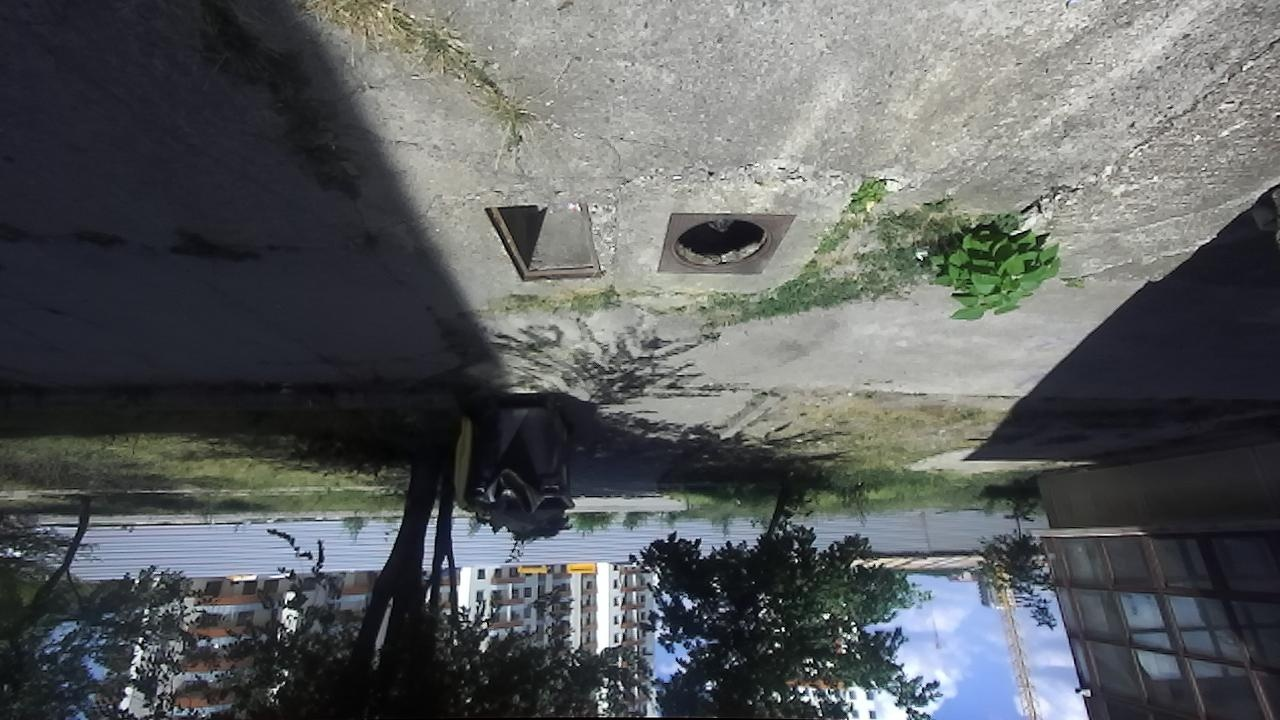drain: (483, 199, 608, 285), (670, 215, 775, 271)
